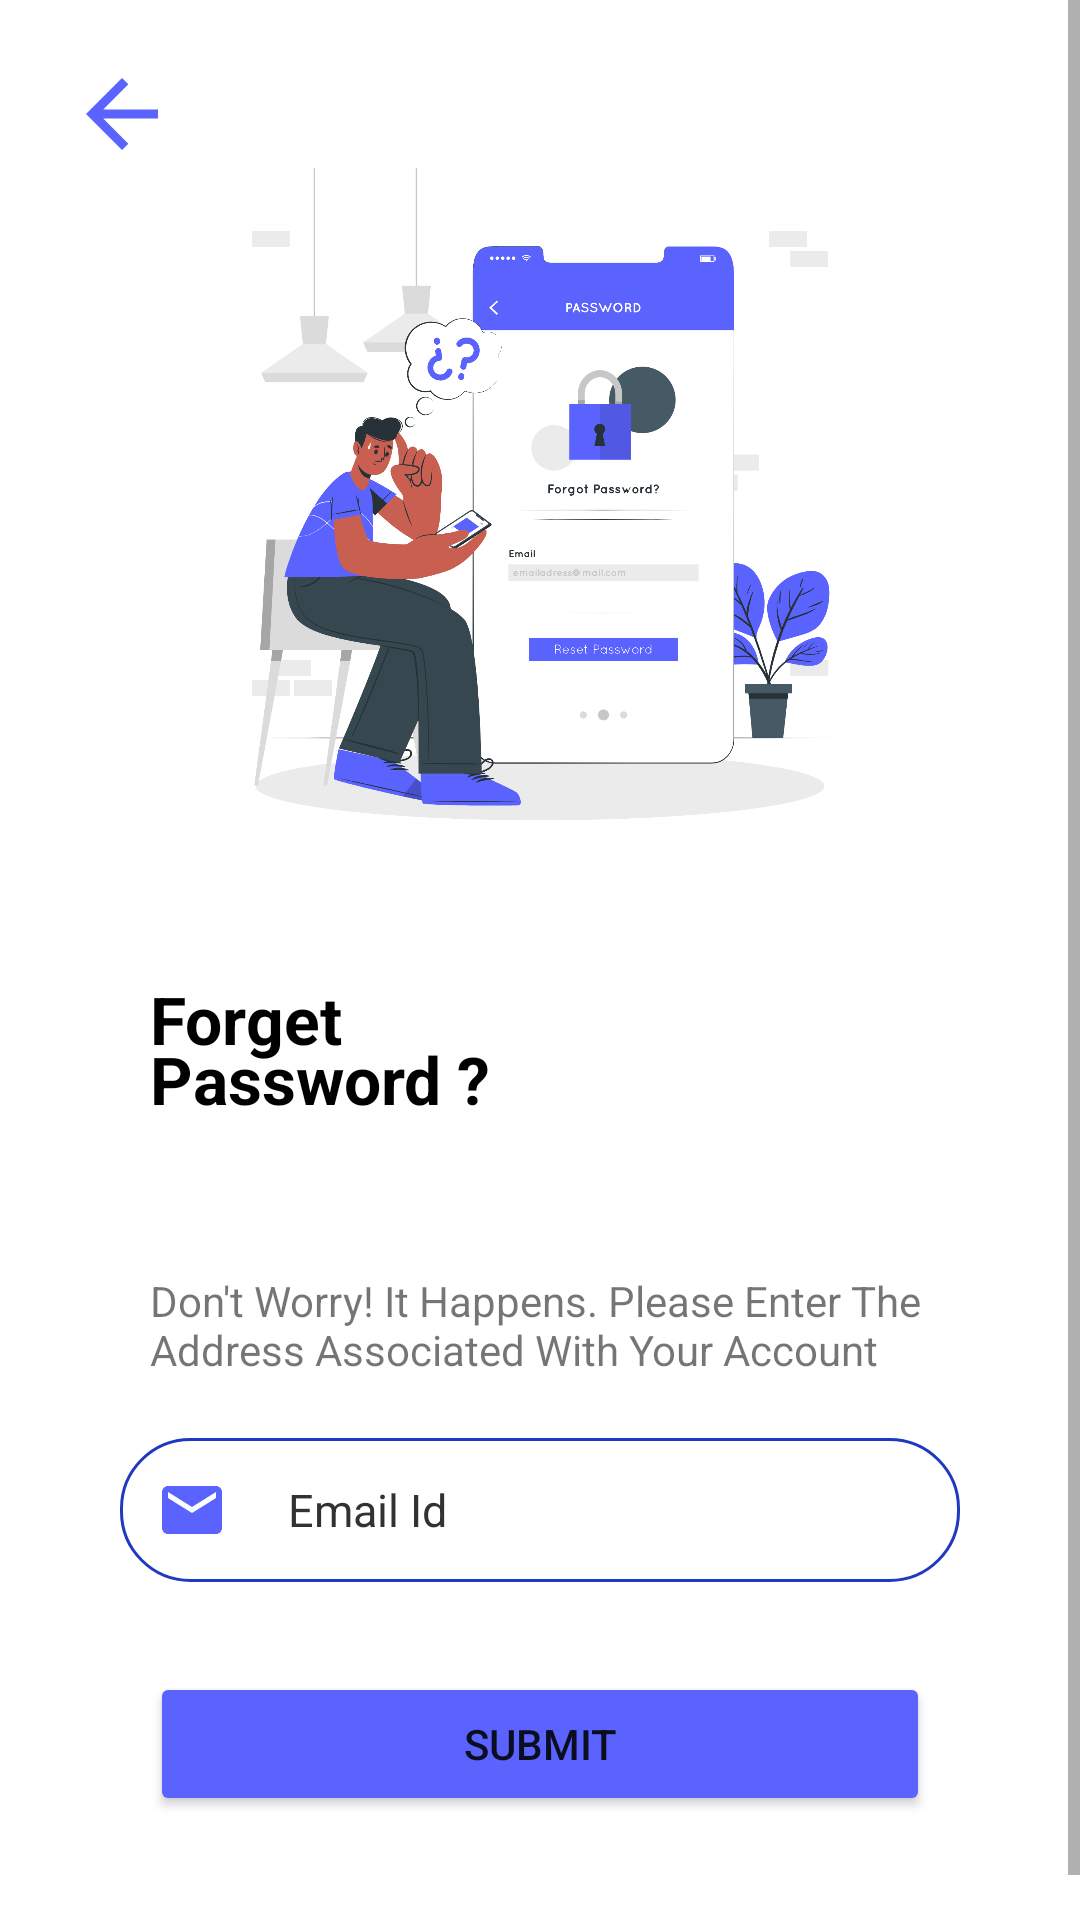

Icon bounding boxes for this 1080×1920 phone screenshot, format [x1=x1, y1=y1, x2=x2, y2=y2]:
back: [x1=86, y1=78, x2=158, y2=150]
